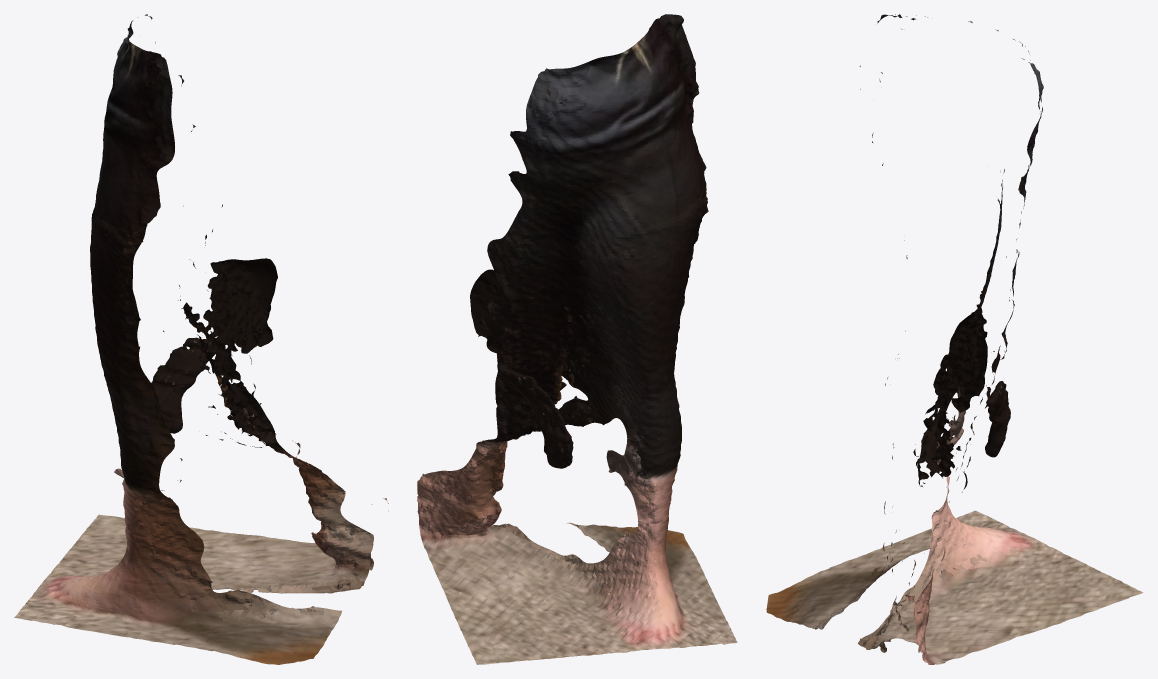
3 renders of one model, left to right at view 1: azimuth 30°, elevation 25°; view 2: azimuth 150°, elevation 25°; view 3: azimuth 270°, elevation 25°, orthographic. The views are drawn at different scales.
Bounding box in the file's own units: 0.6697 × 1.06 × 0.6471.
1 material, 1 textured.
